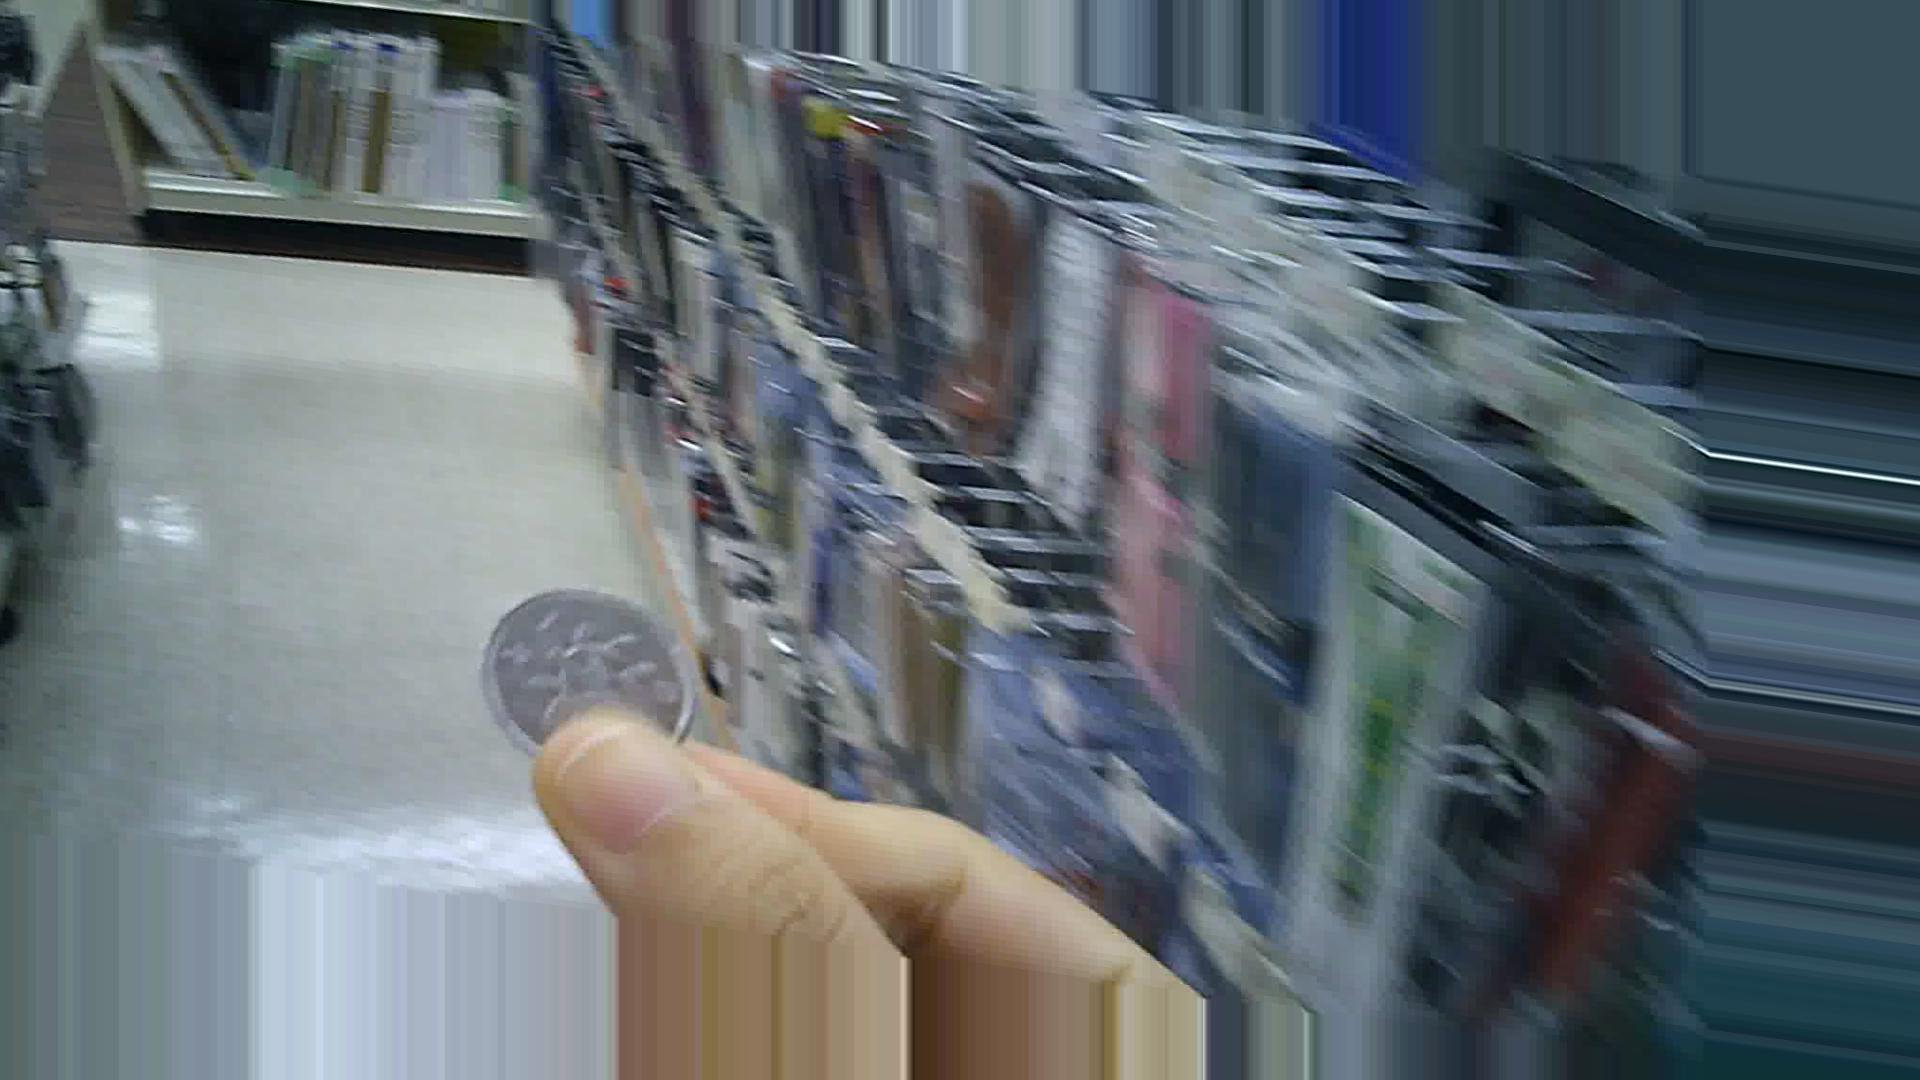1 Yen: (487, 597, 688, 770)
